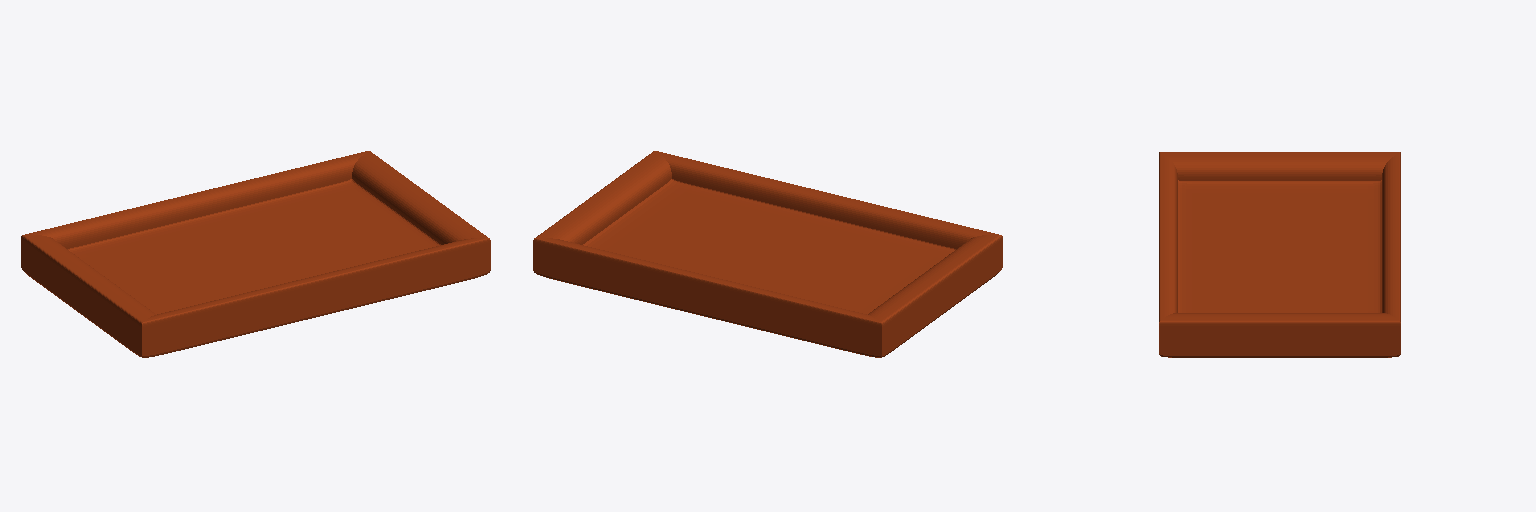
File: table3.obj
The picture shows the model from 3 angles: view 1: azimuth 30°, elevation 25°; view 2: azimuth 150°, elevation 25°; view 3: azimuth 270°, elevation 25°; orthographic projection.
Visible parts, largest first — view 1: Cube.001; view 2: Cube.001; view 3: Cube.001.
Part boxes in pixels (bbox=[...]): Cube.001: bbox=[21, 151, 490, 357]; Cube.001: bbox=[533, 151, 1002, 357]; Cube.001: bbox=[1159, 152, 1400, 357].
Size of the model in its own units: 14.51 by 1.56 by 8.71.